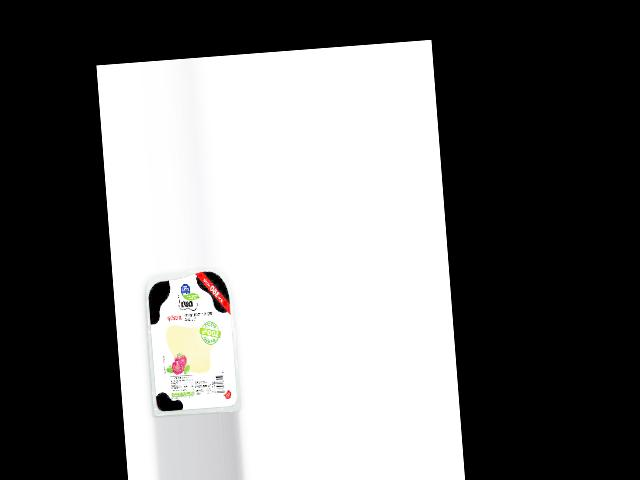cheese: (142, 264, 241, 417)
